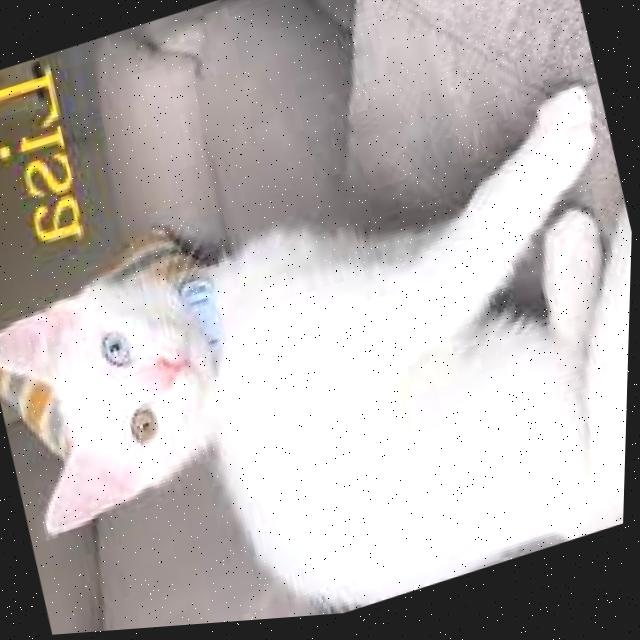Khao Manee: (0, 76, 637, 640)
